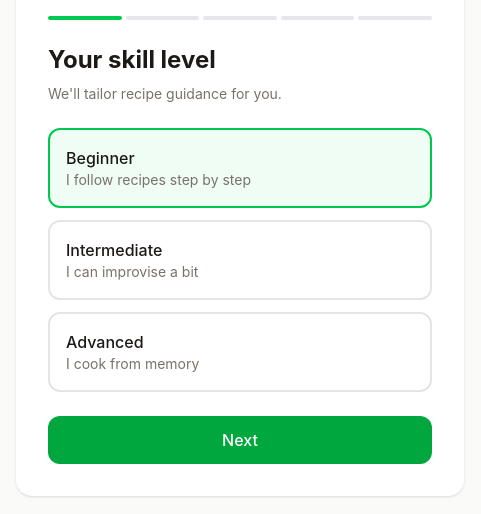
Test: Onboarding › advances from skill to household on Next
The width and height of the screenshot is (481, 514).
Click the button "Next": (240, 440) x1=48 y1=416 x2=432 y2=464
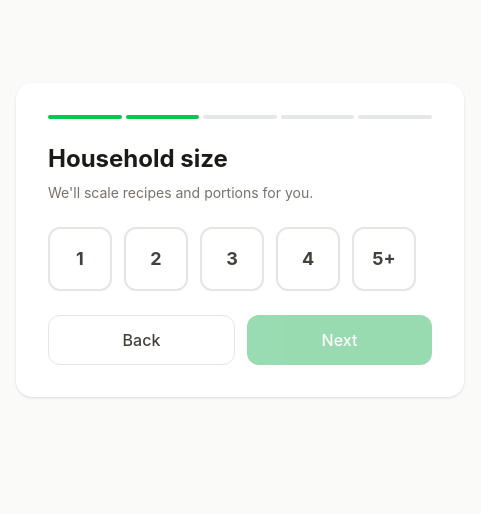
Expected: the heading "Household size" is shown, x1=48 y1=144 x2=228 y2=173
